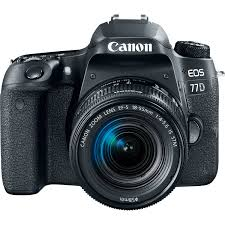camera: (4, 33, 219, 212)
